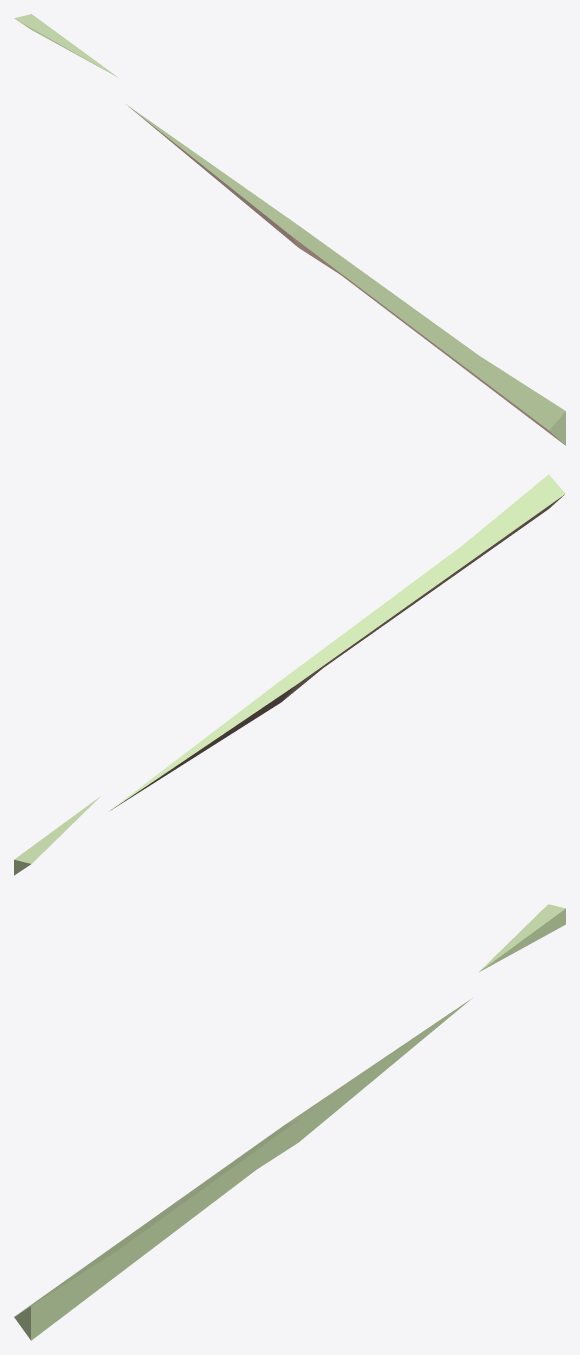
The model's file is chunk_-2_-1.glb.
The picture shows the model from 3 angles, top to bottom: view 1: azimuth 30°, elevation 25°; view 2: azimuth 150°, elevation 25°; view 3: azimuth 330°, elevation 25°; orthographic projection.
Parts seen in each view (by area): view 1: chunk_-2_-1_0; view 2: chunk_-2_-1_0; view 3: chunk_-2_-1_0.
Part boxes in pixels (left/top/right/bottom): chunk_-2_-1_0: left=14, top=14, right=565, bottom=445; chunk_-2_-1_0: left=14, top=474, right=565, bottom=875; chunk_-2_-1_0: left=14, top=904, right=565, bottom=1340.
Size of the model in its own units: 0.611 by 1.35 by 32.
